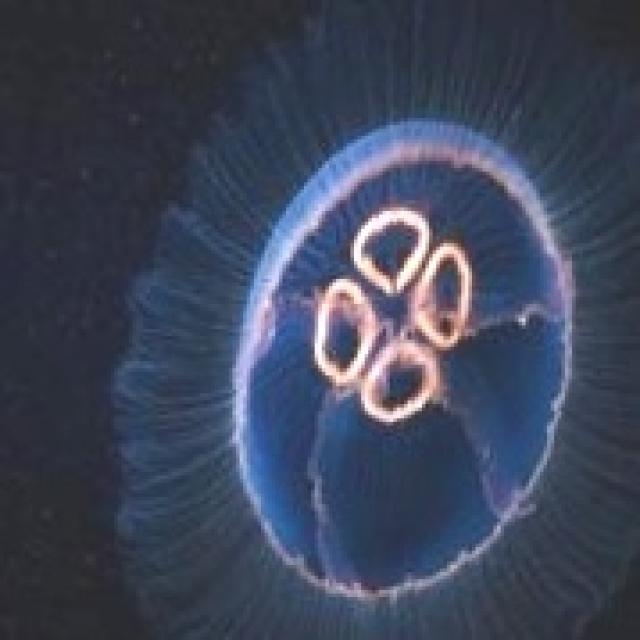Moon-jellyfish: (103, 0, 636, 636)
